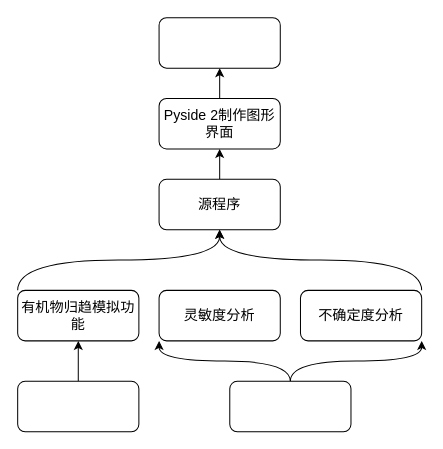
Image size: 443x449. Some labels were removed from this diagram. The box of each missing label's shape, as (x1, y1, x2, y2) in pixels:
Python基础语言+Matplotlib: (229, 380, 351, 432)
Python基础语言+NumPy: (17, 380, 139, 432)
逸度模型软件: (158, 17, 280, 68)
